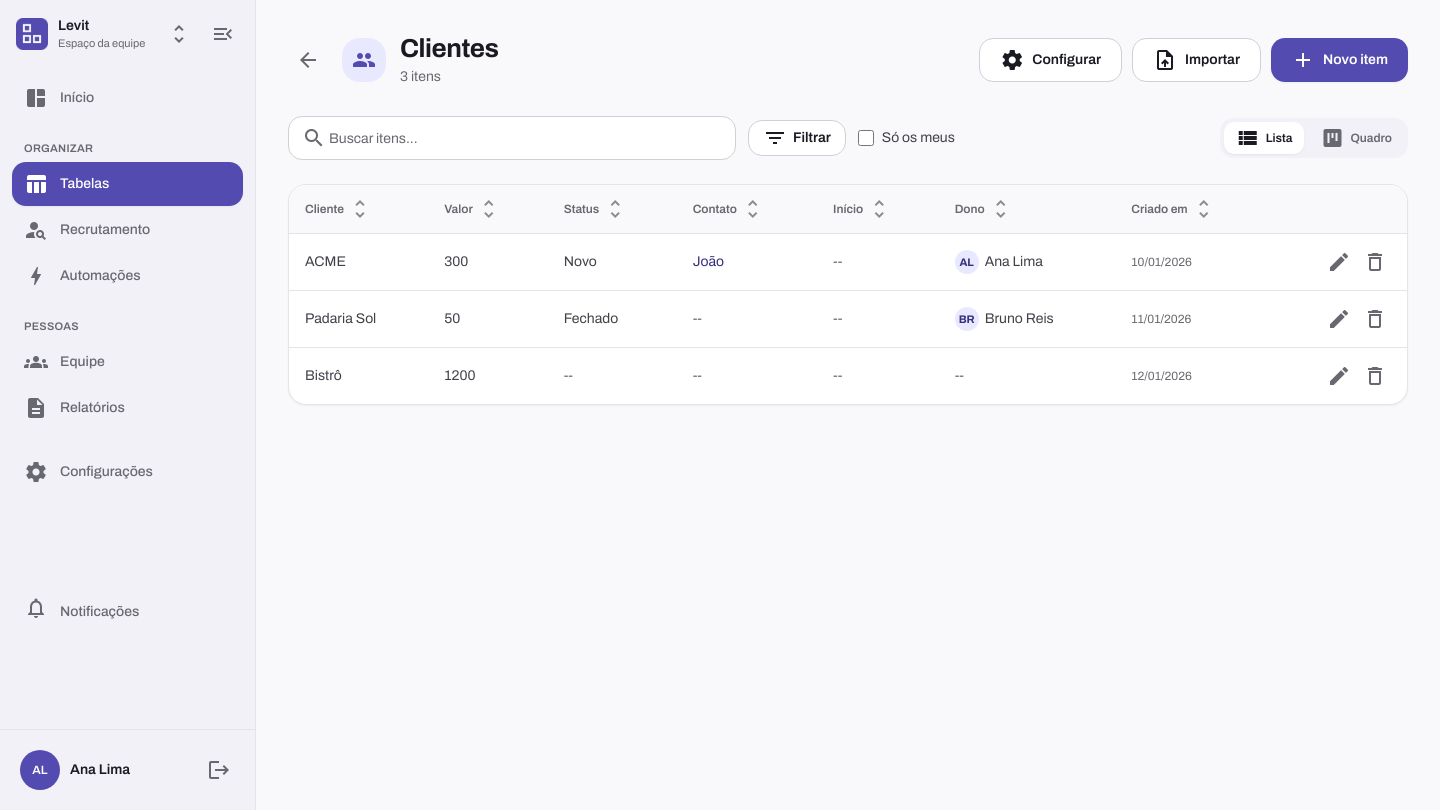
Test case: ModuleRecords › ordena pela coluna: crescente, decrescente e volta ao original
Later steps or results of the test are not shown.
Expected: the cell "ACME" is shown, [289,234,428,290]
Click the button "Valor".
click(473, 209)  # box [444,197,501,221]
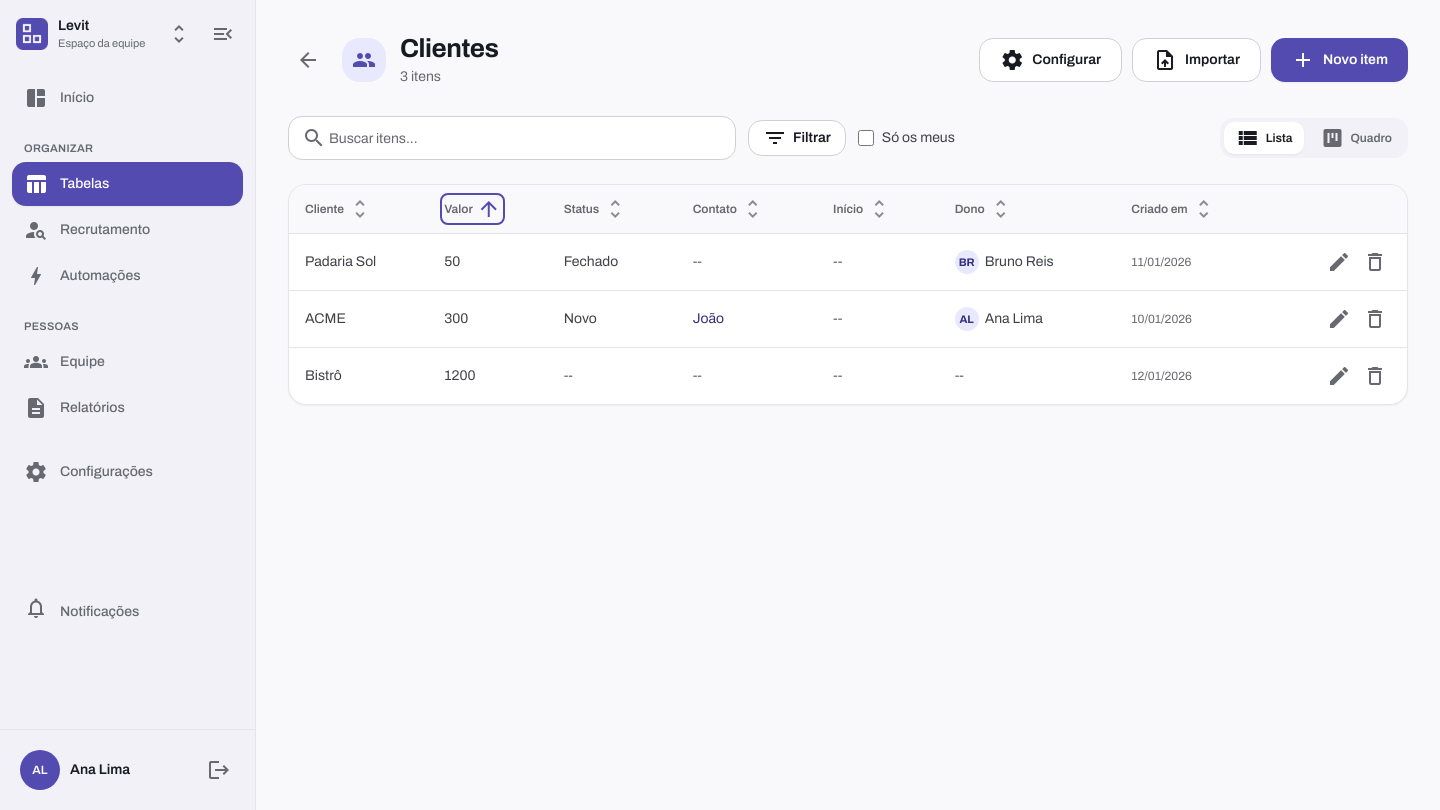
Expected: the column heading "Valor" has attribute aria-sort="ascending", [428,185,548,234]
Click the button "Valor".
click(473, 209)  # box [444,197,501,221]
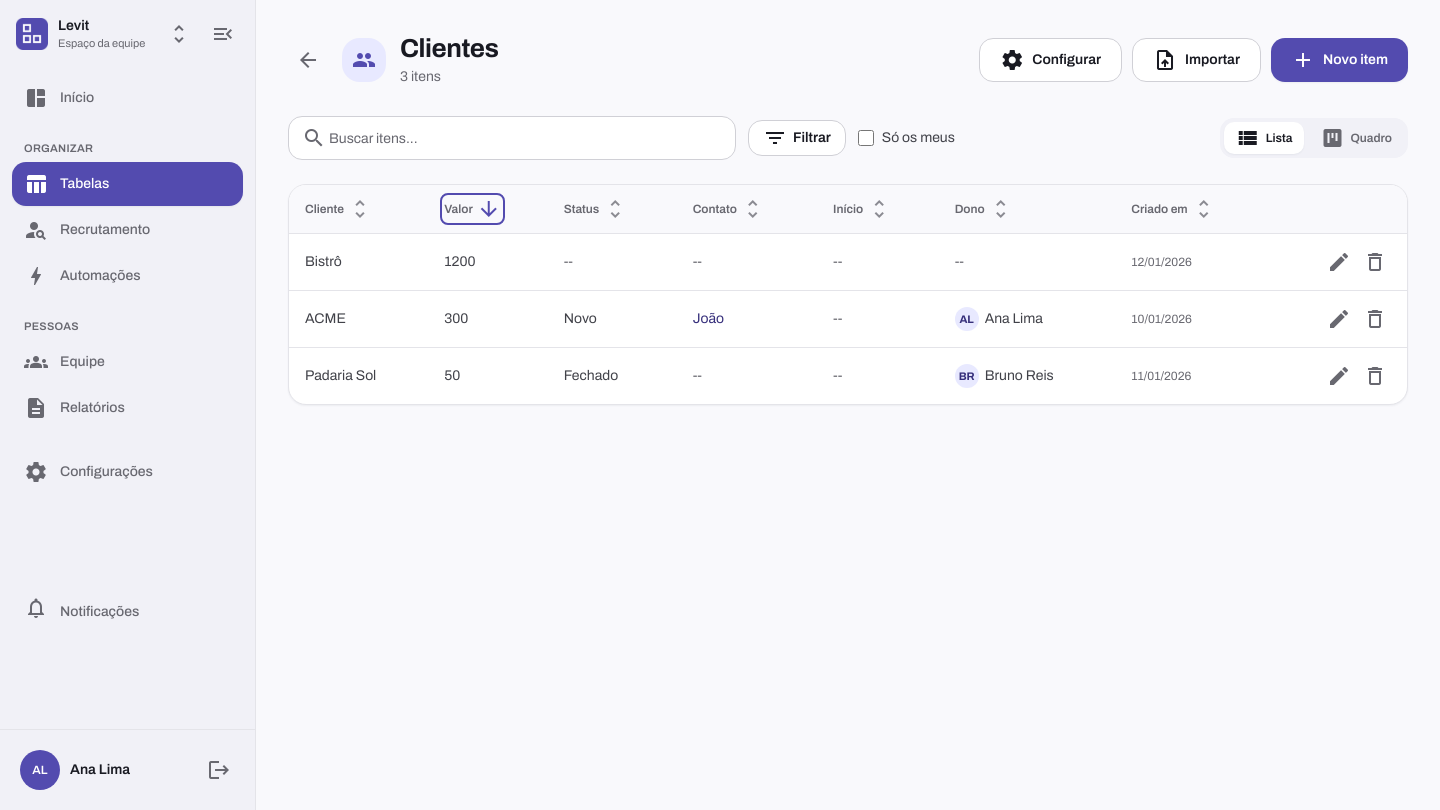
Expected: the column heading "Valor" has attribute aria-sort="descending", [428,185,548,234]
Click the button "Valor".
click(473, 209)  # box [444,197,501,221]
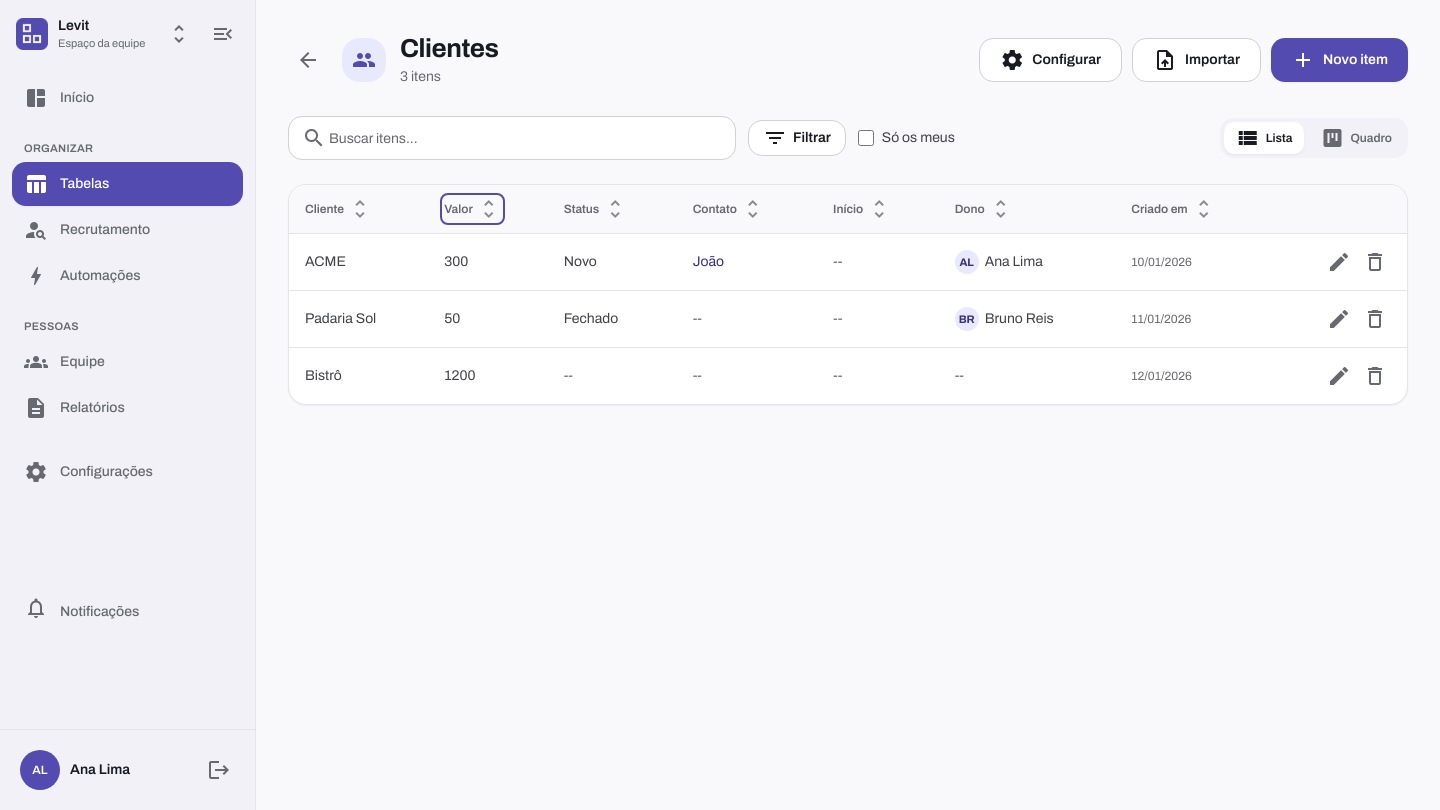
Expected: the column heading "Valor" has attribute aria-sort="none", [428,185,548,234]
